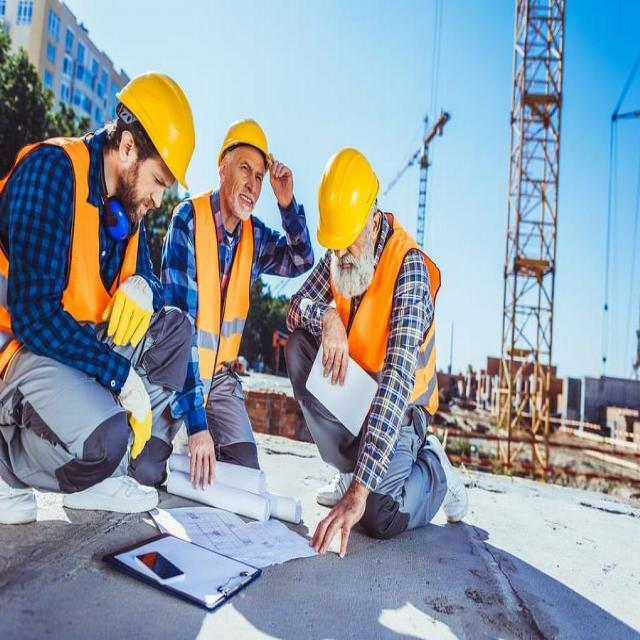Reflective-Jacket: (0, 139, 136, 376), (336, 232, 442, 418), (186, 192, 258, 392)
Safety-Helmet: (114, 65, 200, 185), (314, 141, 381, 250), (215, 115, 271, 164)
